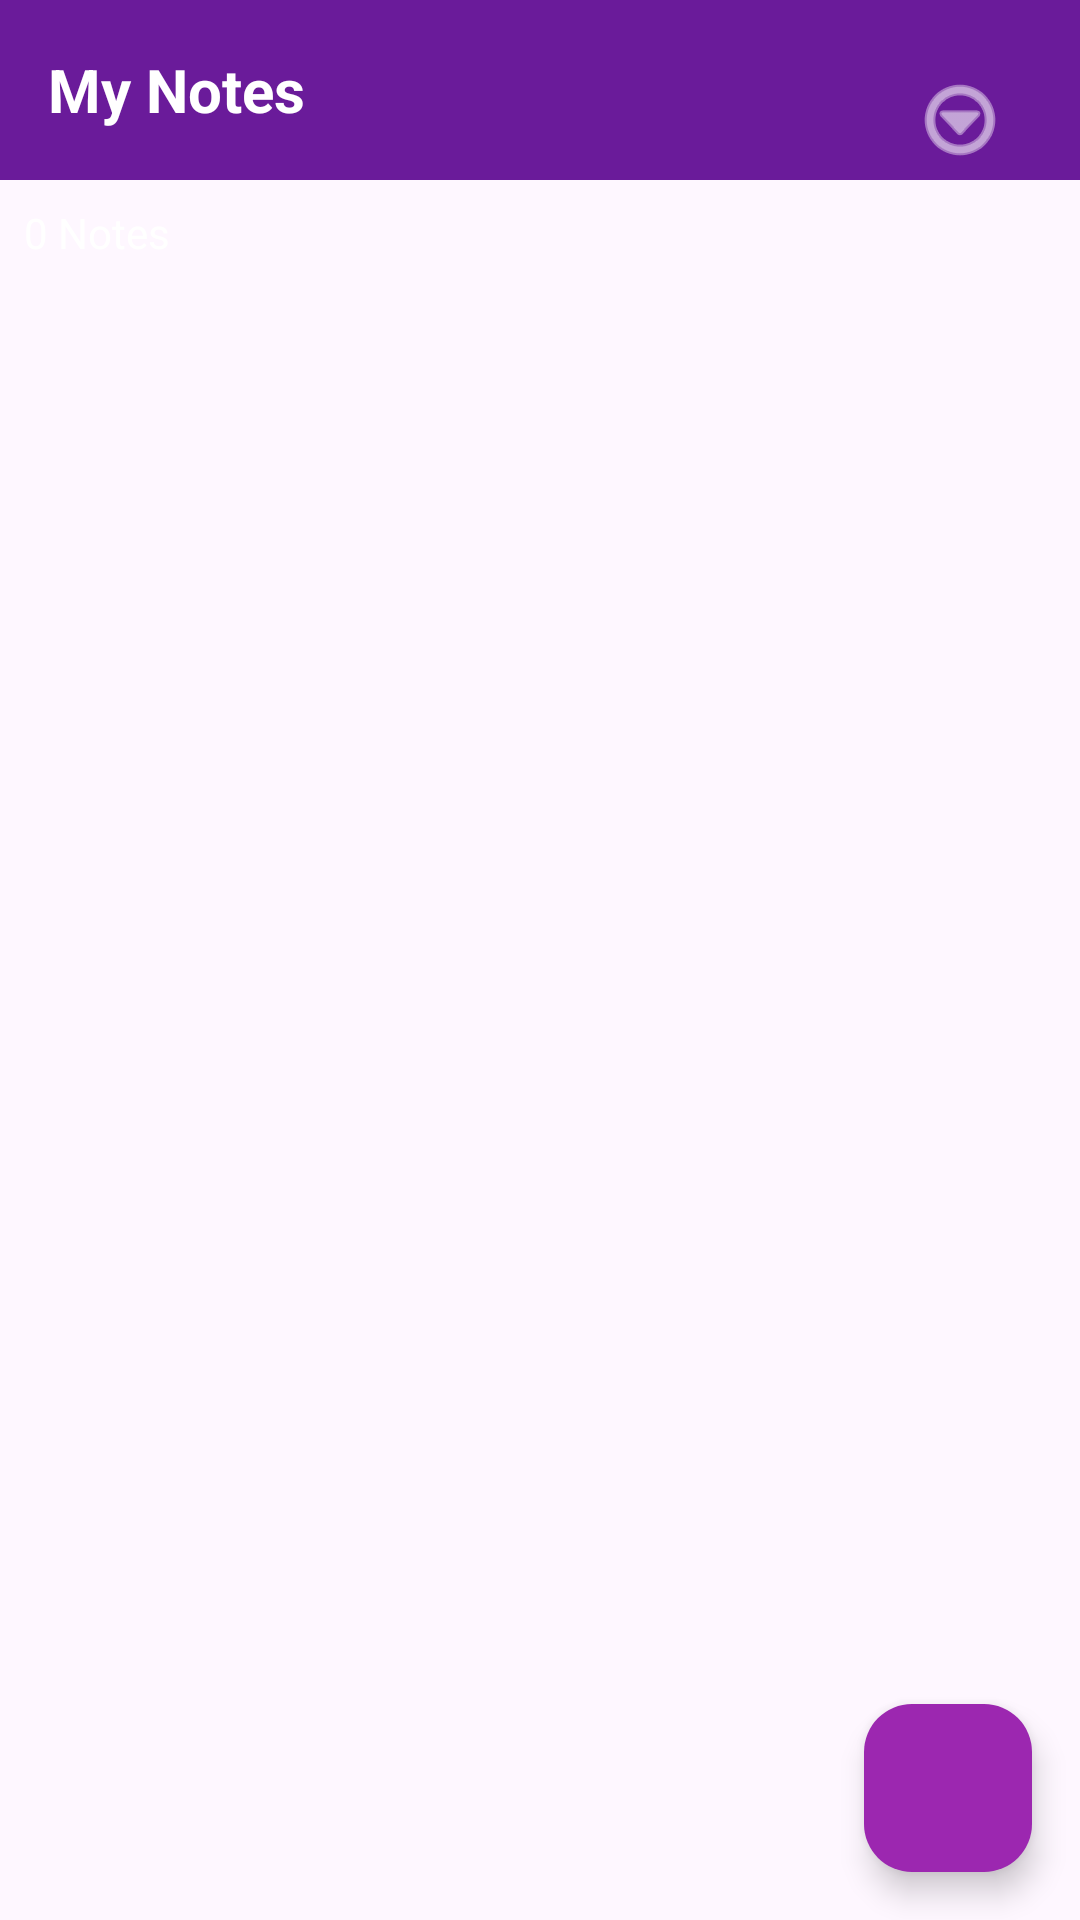

Screen size 1080*1920. Icon name, then its center in pixels as point (x, y):
more: point (960, 120)
